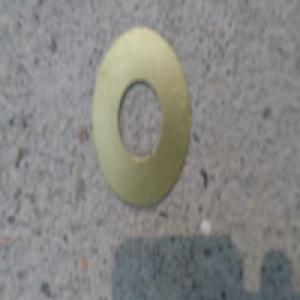Washer: (90, 34, 190, 212)
